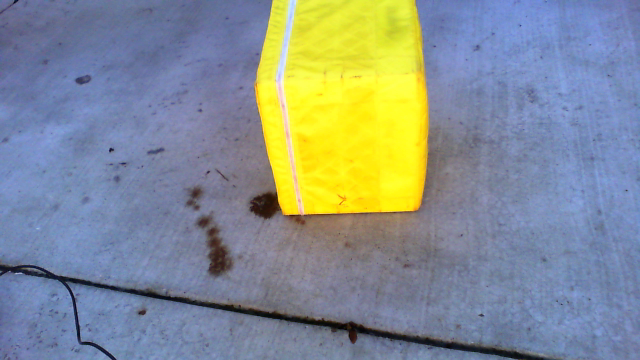cube: (254, 1, 430, 215)
